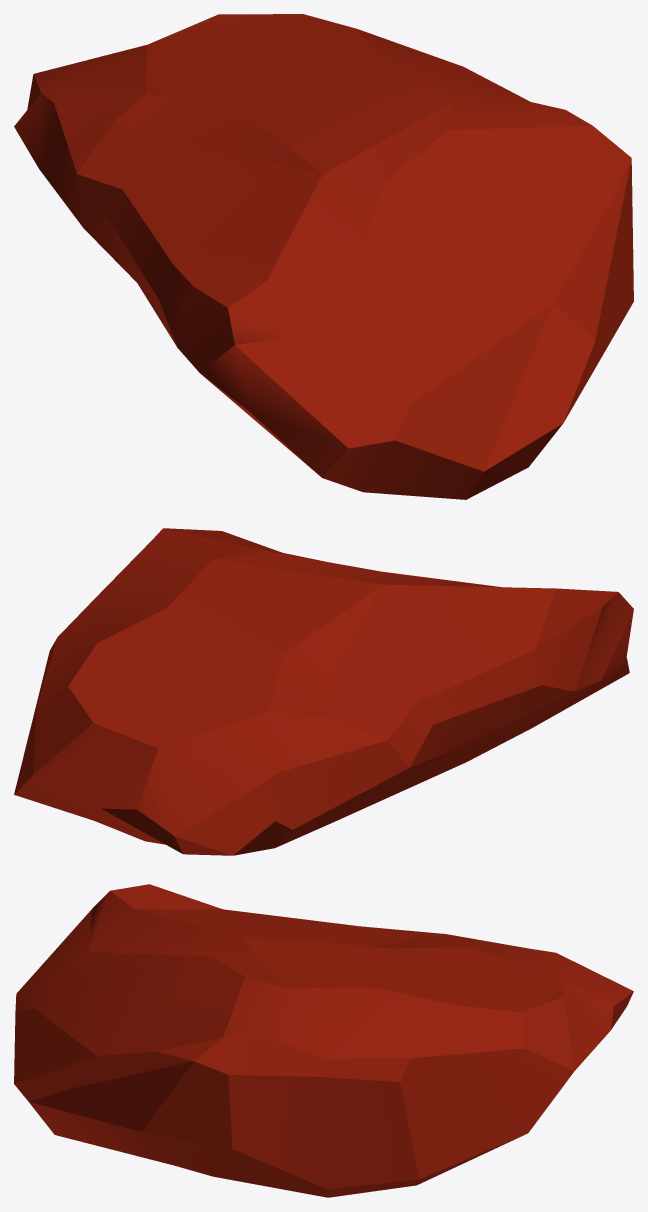
Rendered from SM_Large_Rock_01.fbx.
The picture shows the model from 3 angles, top to bottom: view 1: azimuth 30°, elevation 25°; view 2: azimuth 150°, elevation 25°; view 3: azimuth 270°, elevation 25°; orthographic projection. The views are drawn at different scales.
Parts seen in each view (by area): view 1: SM_Large_Rock_01; view 2: SM_Large_Rock_01; view 3: SM_Large_Rock_01.
Boxes of the visible parts, x1,y1,x2,y2 form: SM_Large_Rock_01: (14,14,633,499); SM_Large_Rock_01: (14,528,633,855); SM_Large_Rock_01: (14,884,633,1197).
Size of the model in its own units: 188 by 91.02 by 273.
